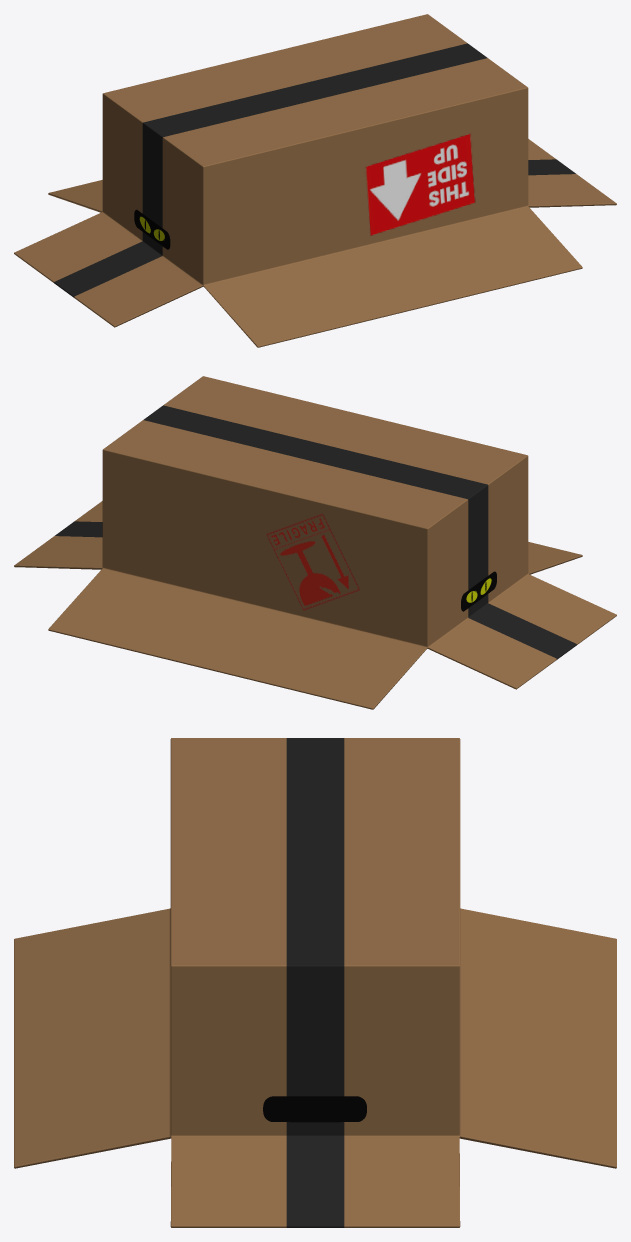
File: caixaTxt.fbx
3 renders of one model, top to bottom at view 1: azimuth 30°, elevation 25°; view 2: azimuth 150°, elevation 25°; view 3: azimuth 270°, elevation 25°, orthographic. The views are drawn at different scales.
Visible parts, largest first — view 1: Cube; view 2: Cube; view 3: Cube.
Part boxes in pixels (x1,y1,x2,y2): Cube: (14,14,616,347); Cube: (14,376,616,709); Cube: (14,738,616,1227).
Bounding box in the file's own units: 577 × 155 × 417.
